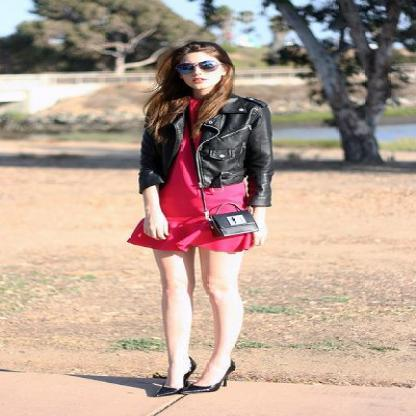bag: (207, 212, 258, 237)
dress: (127, 125, 254, 253)
jacket: (140, 96, 272, 218)
shoe: (178, 364, 211, 390)
